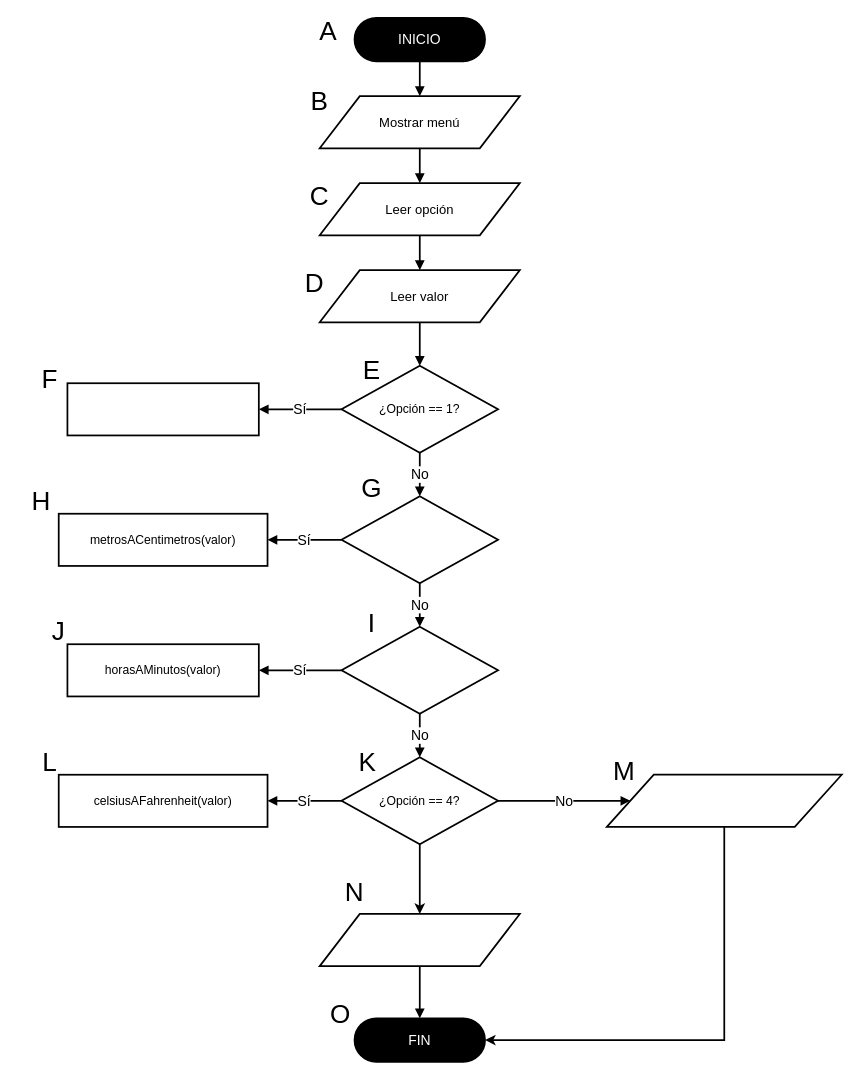
This 857x1077 diagram has some shape labels left out. Each missing label, with the centre of its shape:
kmAMetros(valor): [162,409]
Mostrar "Opción no válida": [724,800]
Mostrar resultado: [419,940]
¿Opción == 2?: [419,539]
¿Opción == 3?: [419,670]
